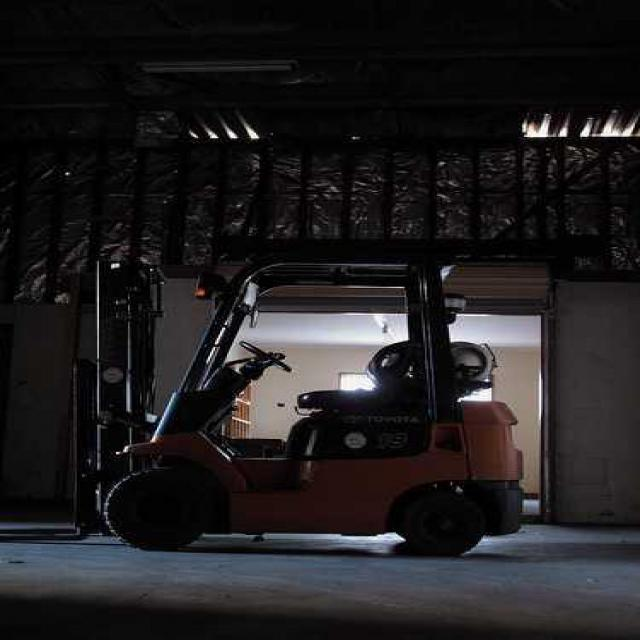forklift: (0, 246, 522, 562)
